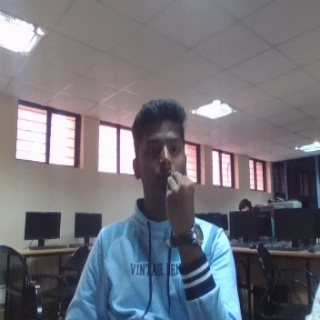Food: (163, 171, 199, 234)
